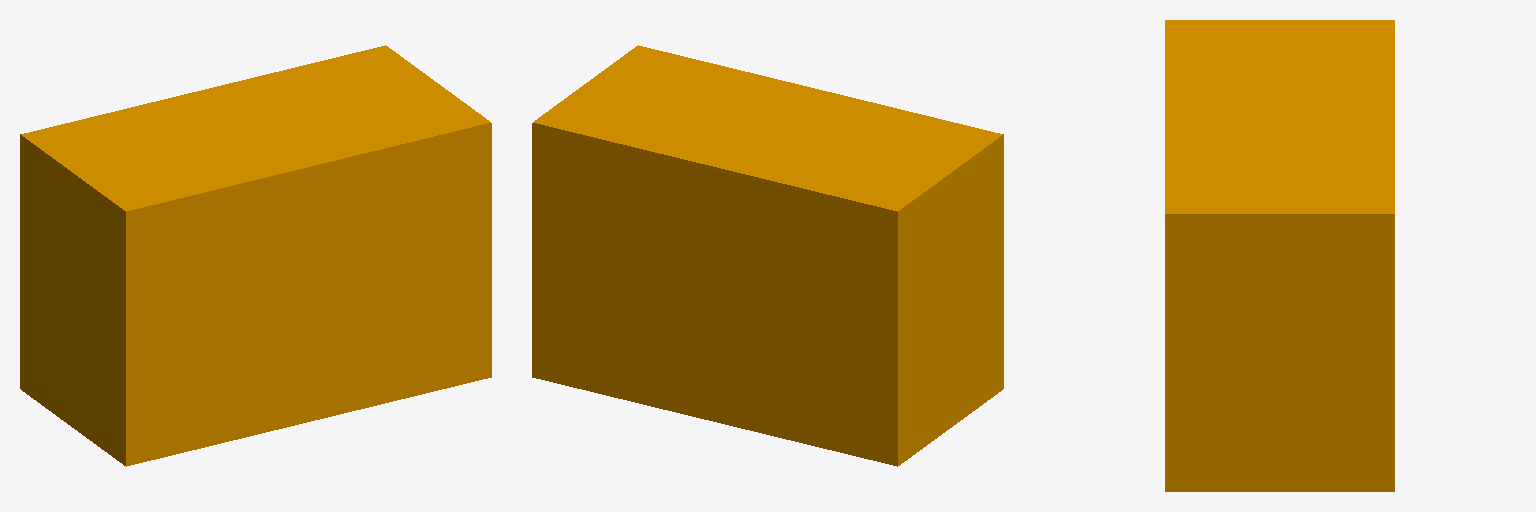
The robot description file, URDF, robot "block":
<robot name="block">
  <link name="block_link">
    <inertial>
      <origin xyz="0.0 0.0 0.0" />
      <mass value="0.5" />
      <inertia  ixx="0.00041666666666666664" ixy="0.0"  ixz="0.0"  iyy="0.0008666666666666666"  iyz="0.0"  izz="0.00075" />
    </inertial>
    <visual>
      <origin xyz="0.0 0.0 0.0"/>
      <geometry>
        <box size="0.12 0.06 0.08" />
      </geometry>
    </visual>
    <collision>
      <origin xyz="0.0 0.0 0.0"/>
      <geometry>
        <box size="0.12 0.06 0.08" />
      </geometry>
    </collision>
  </link>
  <gazebo reference="block_link">
     <material>Gazebo/Gold</material>
     <mu1>0.2</mu1>
     <mu2>0.2</mu2>
     <maxVel>0.1</maxVel>
     <minDepth>0.0001</minDepth>
  </gazebo>
</robot>

--- What the picture shows (computed from the rendered views, not written in the file) ---
The picture shows the robot from 3 angles, left to right: view 1: azimuth 30°, elevation 25°; view 2: azimuth 150°, elevation 25°; view 3: azimuth 270°, elevation 25°; orthographic projection.
Robot: block — 1 links, 0 joints (none); root link block_link; default pose: every joint at zero.
Links seen in each view (by area): view 1: block_link; view 2: block_link; view 3: block_link.
Boxes of the visible links, x1,y1,x2,y2 form: block_link: (20, 45, 491, 466); block_link: (532, 45, 1003, 466); block_link: (1165, 20, 1394, 491).
Size in the robot's own frame: 0.12 by 0.06 by 0.08 metres.
Geometry: primitives only (box / cylinder / sphere), no mesh files.